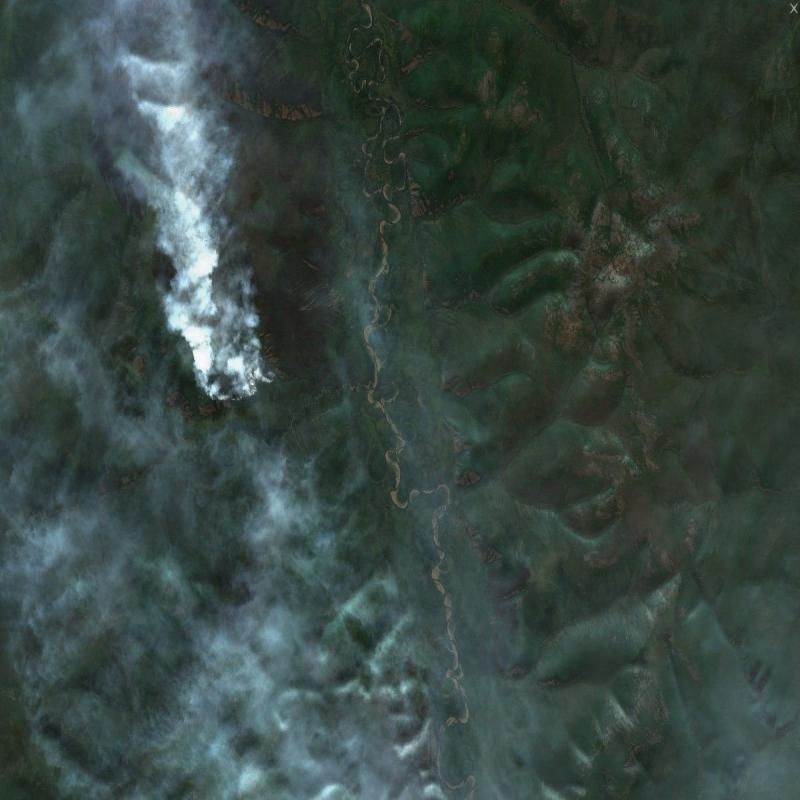fire: (157, 217, 275, 412)
